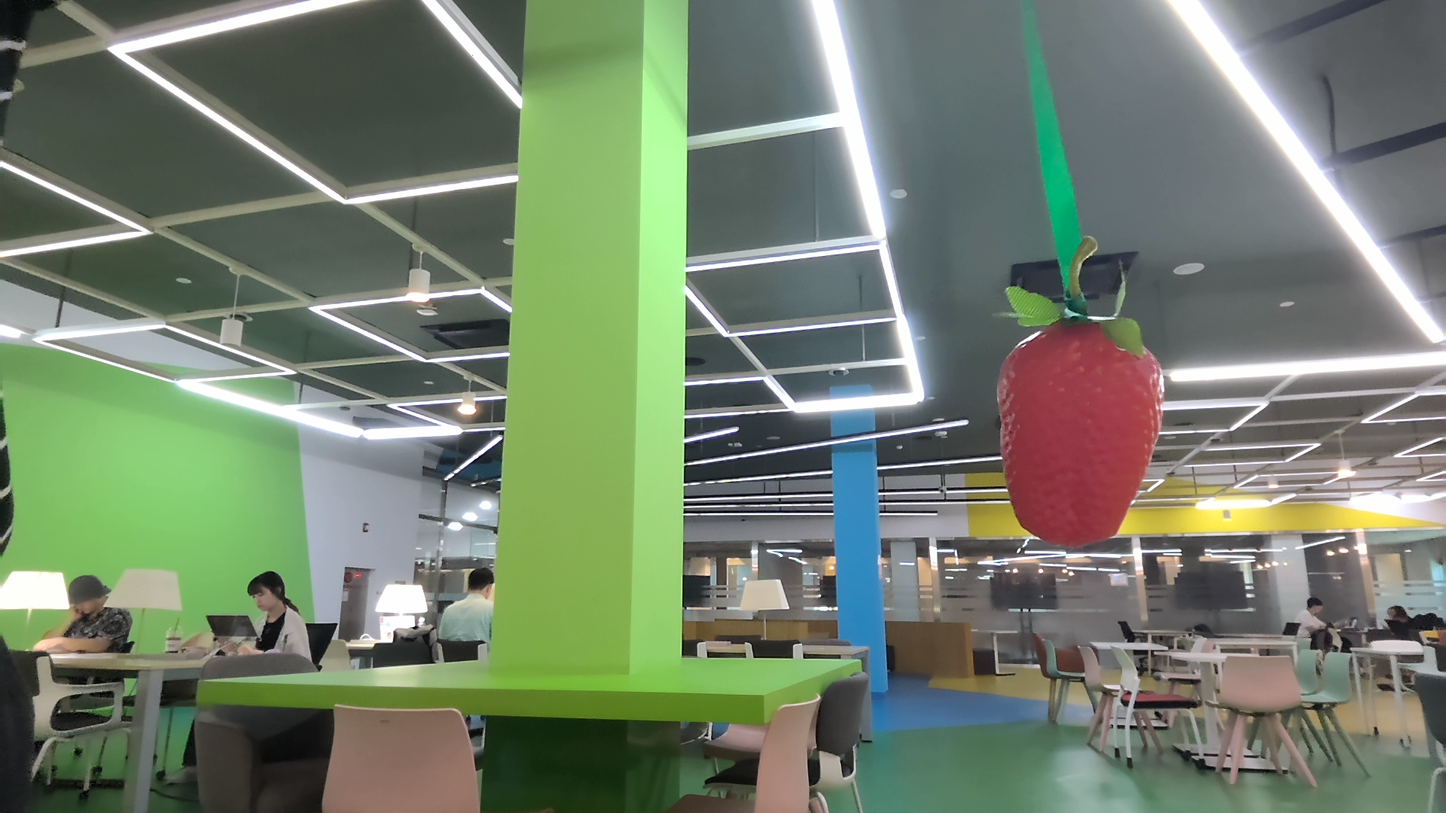strawberry: (978, 305, 1177, 553)
